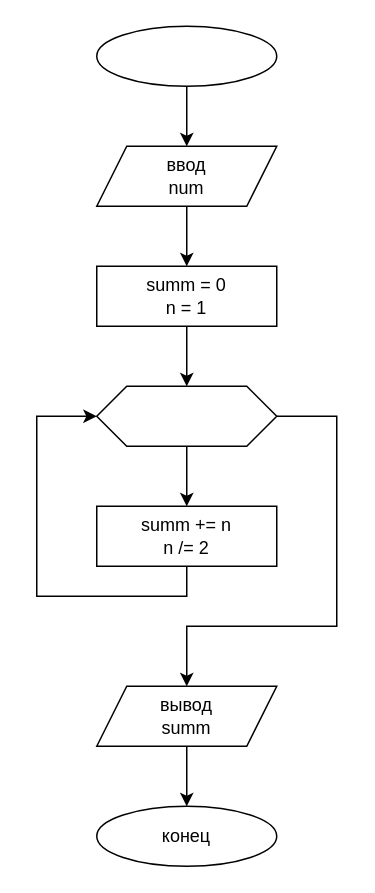
Image size: 375x893. Some labels were removed from this diagram. Each missing label, with the centre of its shape:
"for i in range(num):" belongs at (x=186, y=415).
"начало" belongs at (x=186, y=55).
